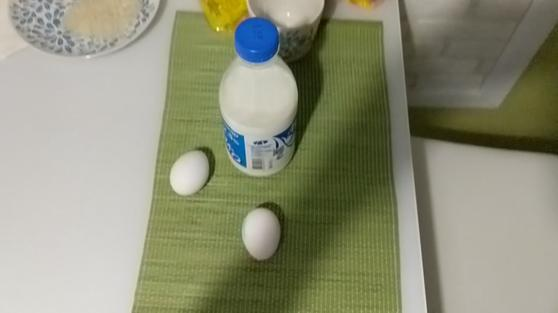egg: (235, 206, 288, 263), (165, 145, 212, 205)
milk: (216, 16, 304, 179)
rice: (61, 1, 156, 44)
